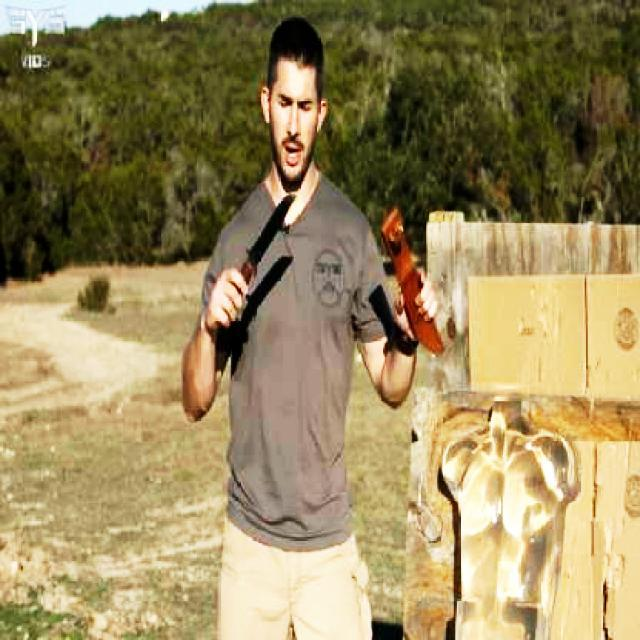Knife: (230, 188, 297, 282)
